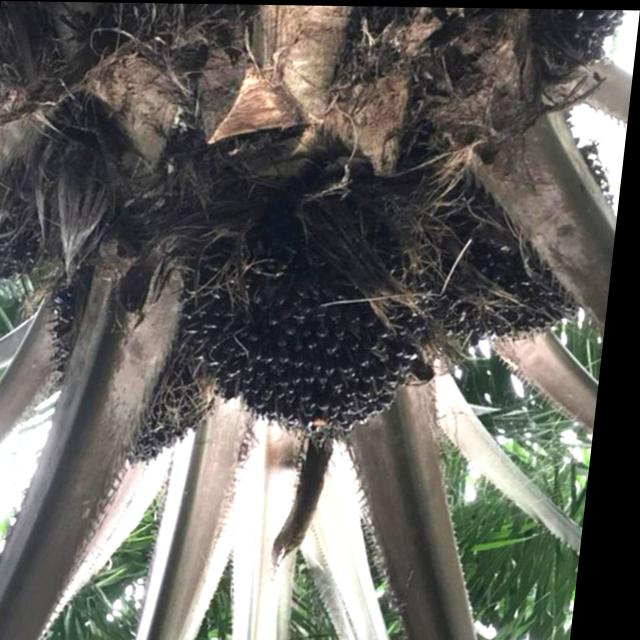almost: (174, 185, 450, 460)
